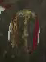Two way: (4, 6, 44, 60)
